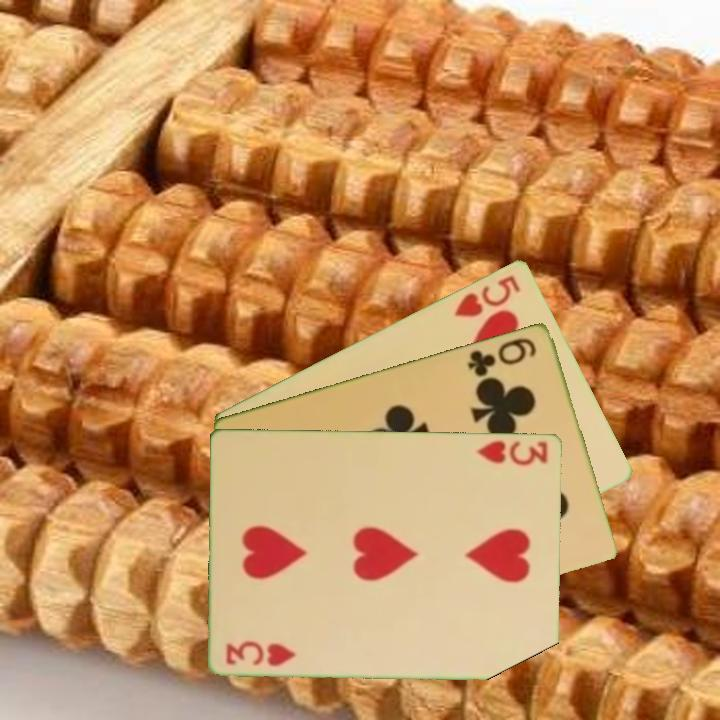3h: (474, 436, 551, 468), (222, 638, 299, 669)
5h: (450, 271, 524, 320)
6c: (464, 333, 540, 379)
